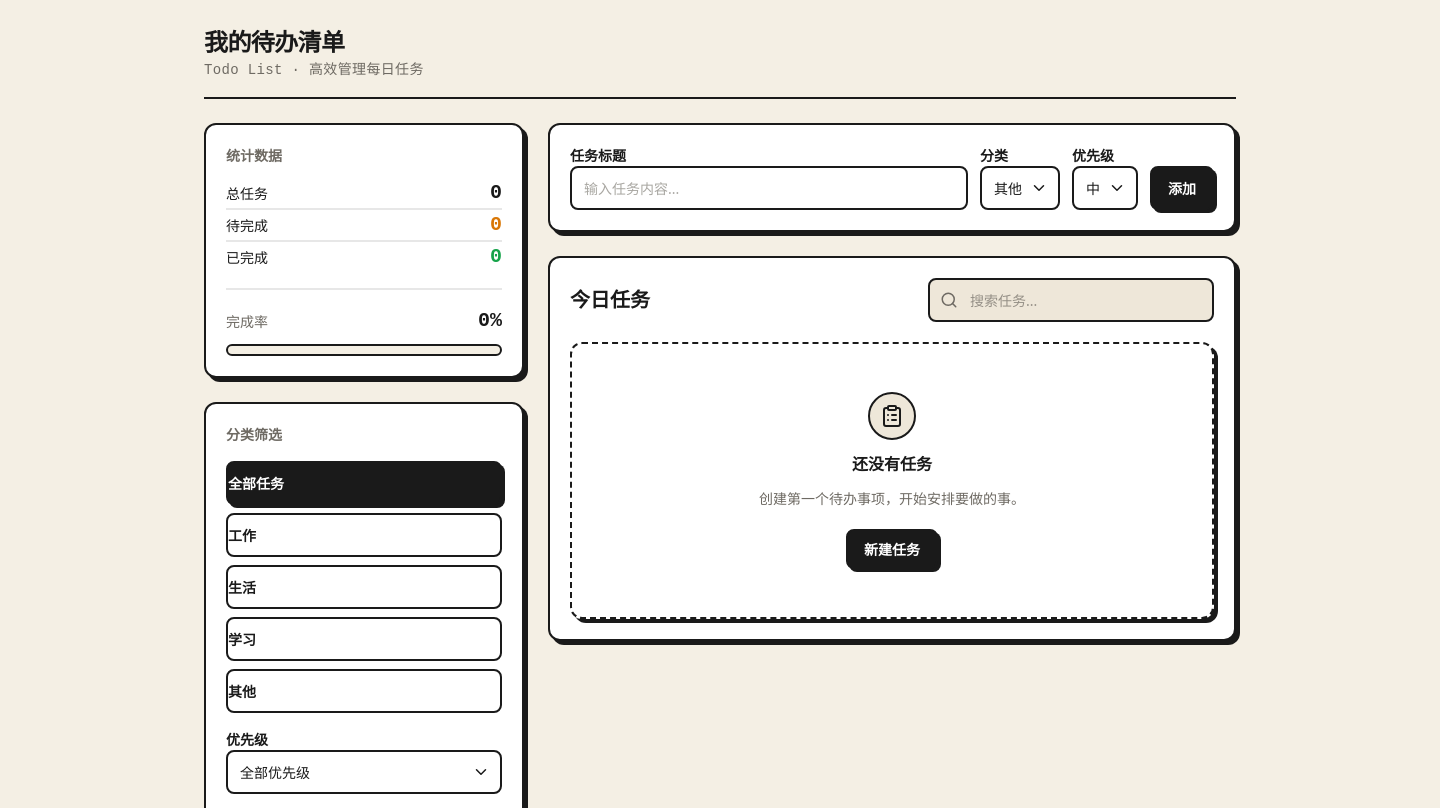
Test case: App 表单接入 › 空标题保存被拦截，store 不新增任务
Click the button "新建任务": (892, 549) x1=846 y1=529 x2=938 y2=569
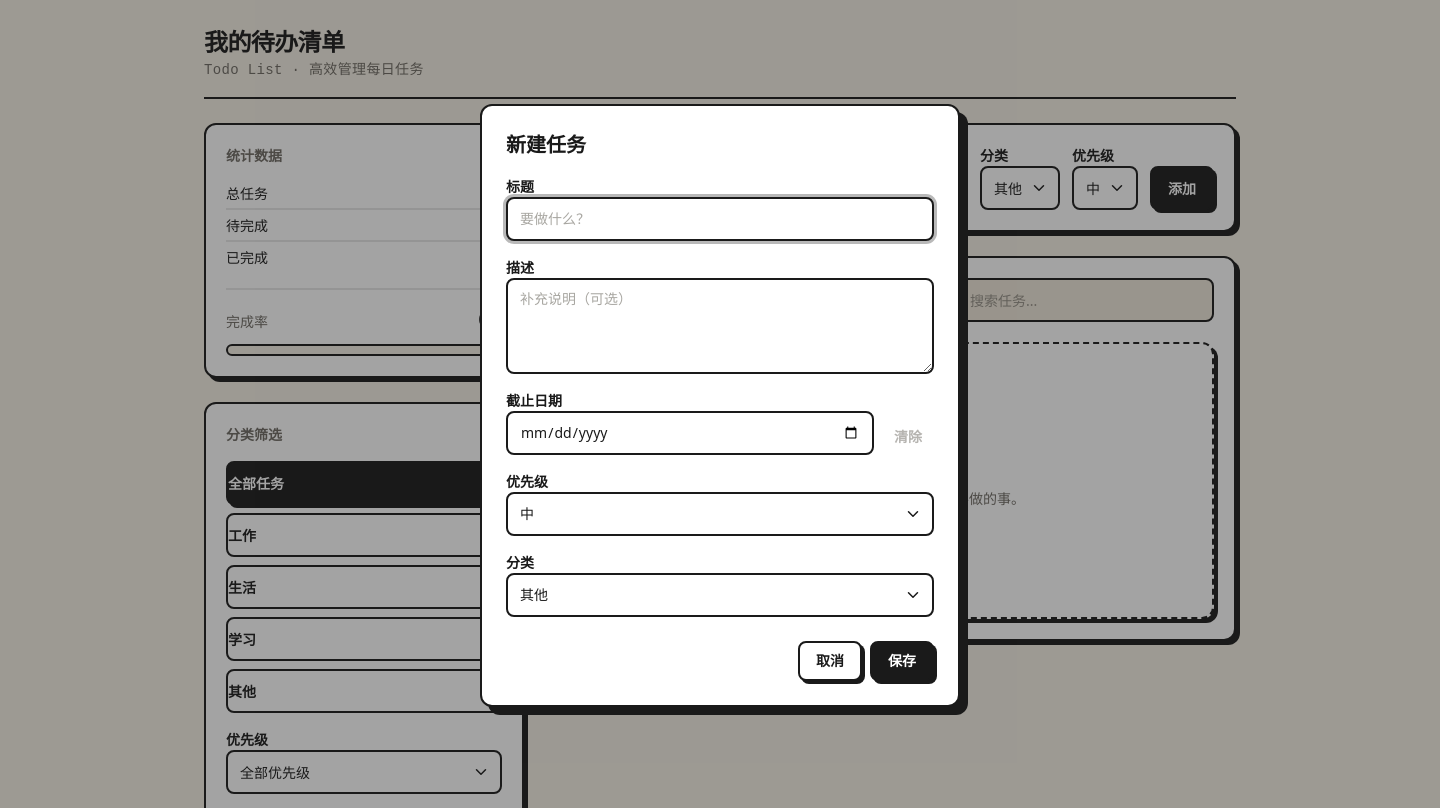
Click the button "保存": (902, 660) x1=870 y1=640 x2=934 y2=680
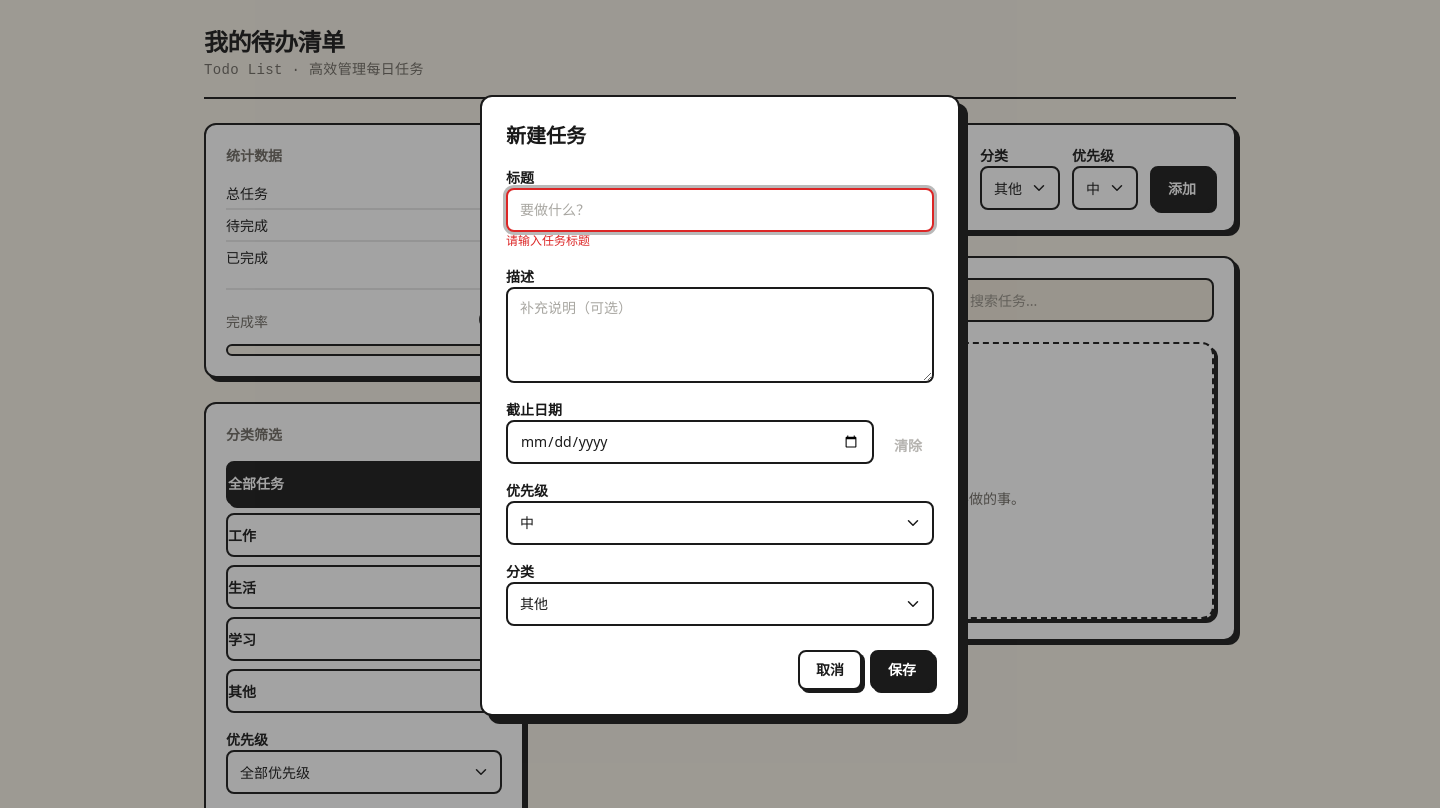
expect the dialog is shown: met, box x1=480 y1=94 x2=960 y2=716
expect the message reads "请输入任务标题": met, box x1=506 y1=232 x2=590 y2=248
